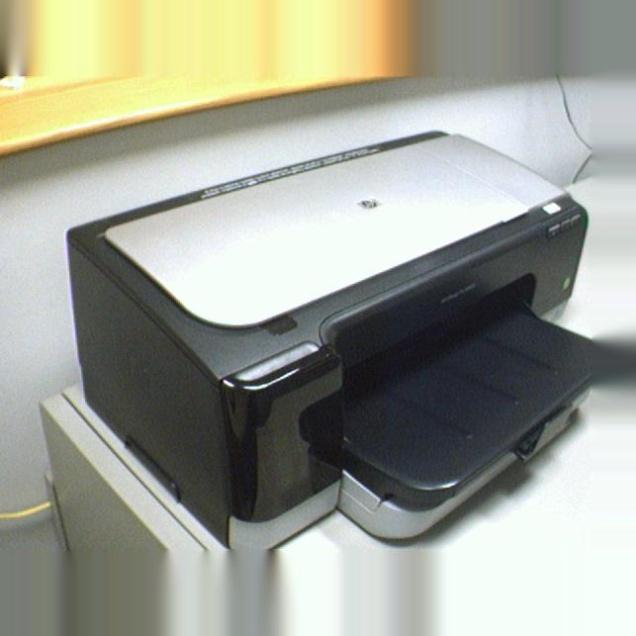Printer: (65, 129, 606, 547)
